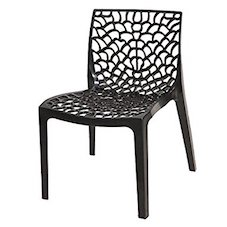chair: (25, 8, 206, 218)
